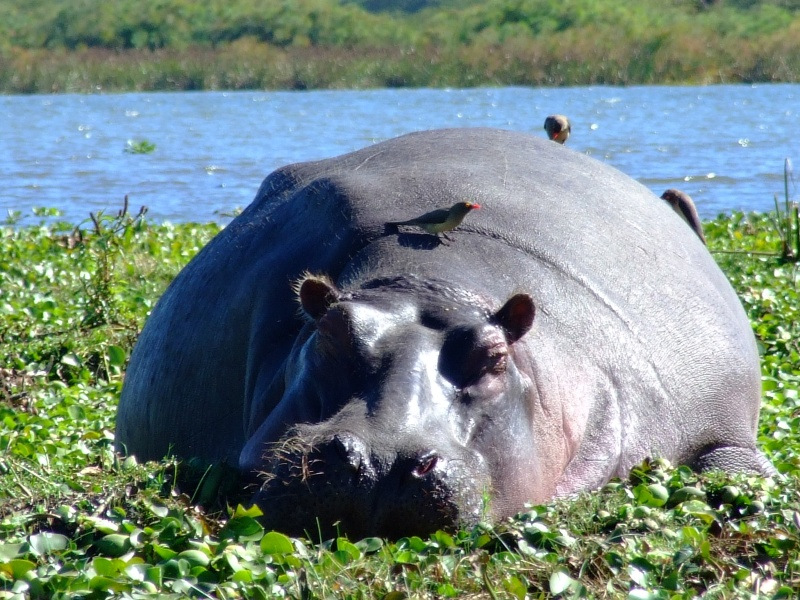hipopotamo: (110, 125, 789, 531)
